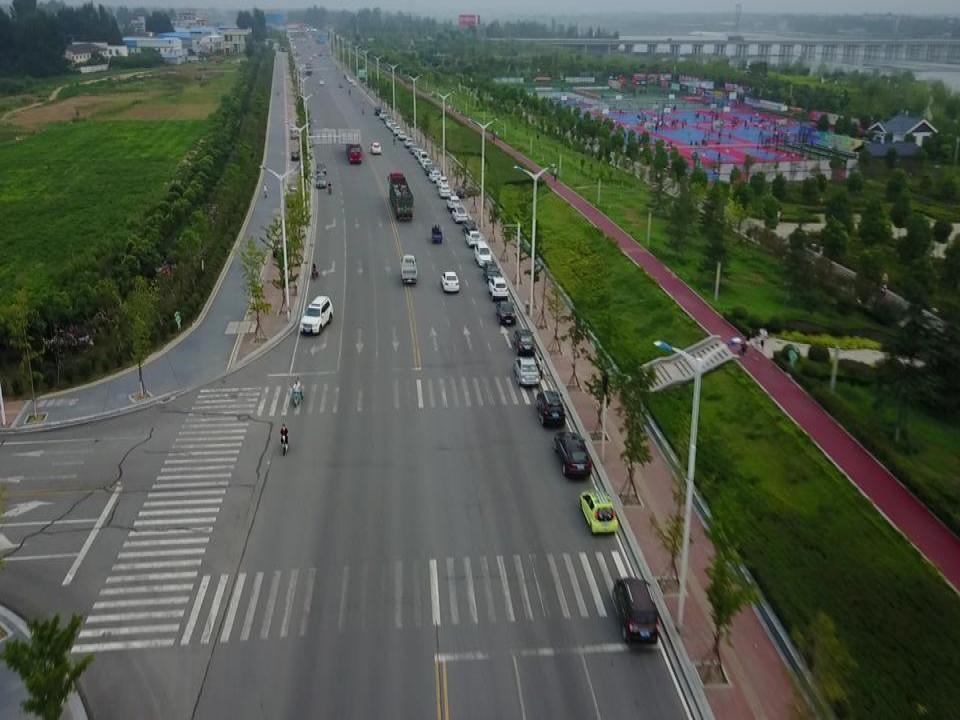car: (611, 573, 666, 647), (553, 428, 595, 481), (579, 485, 620, 535), (297, 292, 336, 340), (534, 385, 574, 431), (514, 356, 540, 392), (512, 328, 539, 353), (438, 268, 462, 293), (487, 276, 513, 299), (495, 300, 517, 324), (283, 184, 309, 203), (481, 260, 502, 283), (271, 232, 288, 260), (286, 385, 305, 408), (452, 207, 470, 224), (465, 230, 484, 246), (445, 193, 462, 208), (462, 219, 481, 232), (438, 184, 453, 199), (314, 172, 327, 188), (370, 140, 383, 155), (288, 150, 303, 162), (418, 150, 430, 162), (415, 148, 427, 160), (425, 164, 437, 175), (403, 137, 415, 148), (379, 110, 390, 122), (434, 176, 448, 185), (428, 171, 442, 180), (385, 117, 396, 128), (422, 159, 434, 169), (410, 144, 422, 153), (390, 121, 400, 131), (393, 126, 404, 134), (374, 105, 382, 116), (398, 131, 407, 140), (384, 115, 393, 124)
truck: (381, 166, 417, 226), (341, 123, 365, 164), (399, 251, 420, 288)
van: (473, 240, 494, 267), (288, 126, 305, 142)
